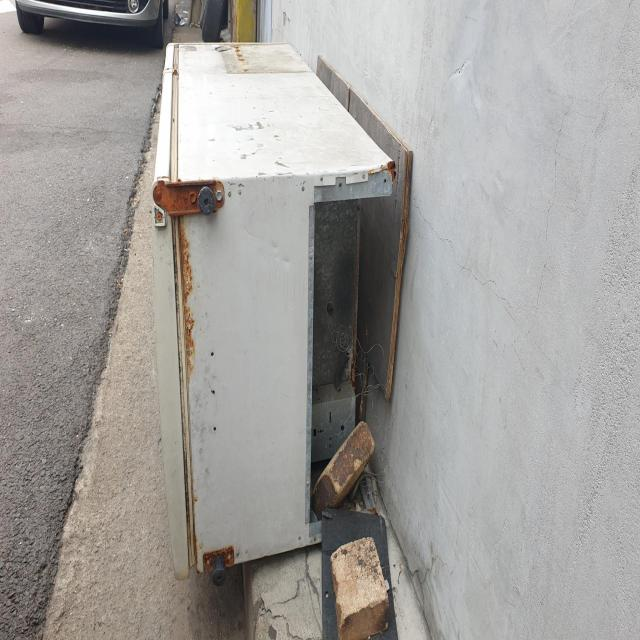refrigerator: (150, 39, 398, 582)
